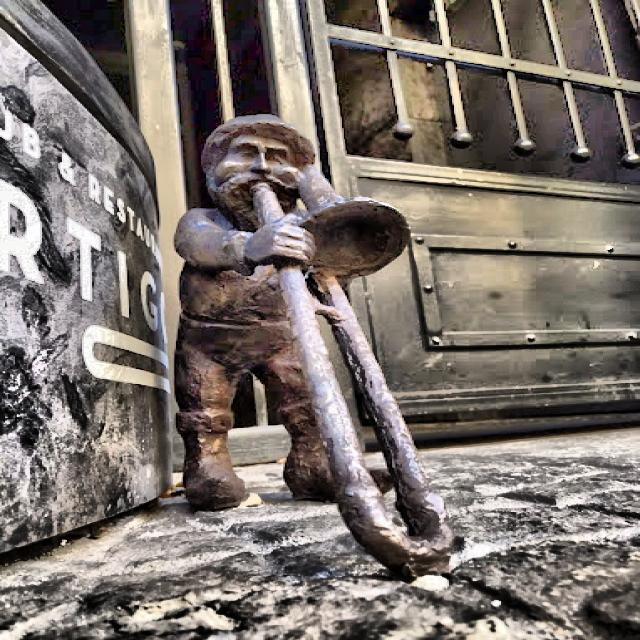Vertigus: (175, 115, 452, 578)
